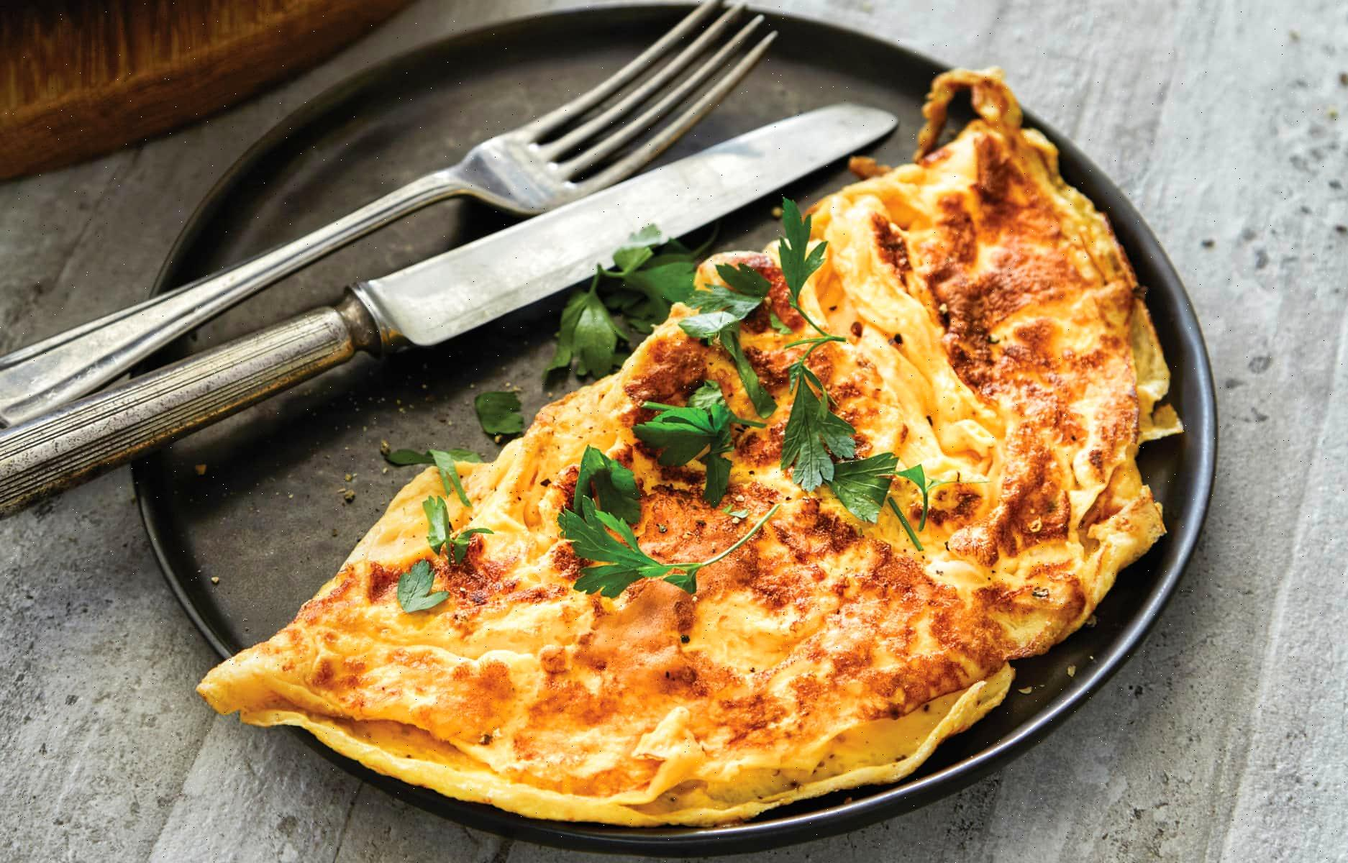omelette: (459, 279, 1143, 769)
